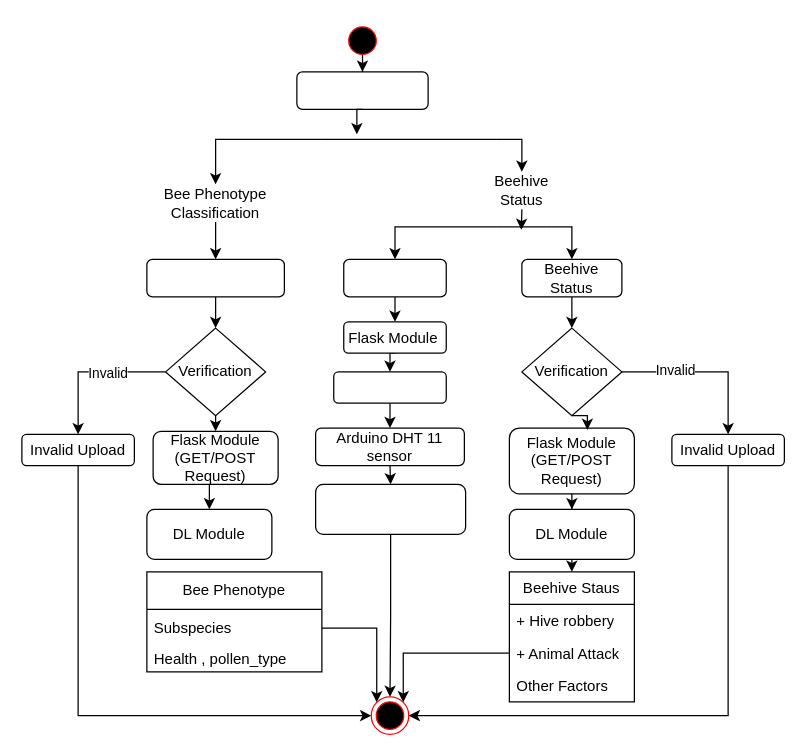
Some shapes in this 806 by 756 pixel diagram are drawn without their labels. The centre of each missing label's shape, as x and y in pixels:
"COM 9 request" belongs at [389,387].
"Image Upload" belongs at [215,277].
"Live Monitoring" belongs at [394,277].
"Temperature And Humidity(Live)" belongs at [390,508].
"User" belongs at [362,90].
